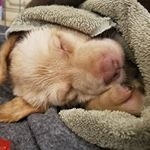puppy: (1, 26, 133, 113)
